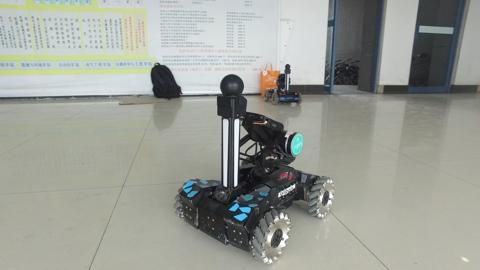bag: (147, 60, 184, 101), (258, 61, 280, 95)
chariot: (172, 72, 336, 266), (261, 62, 303, 106)
